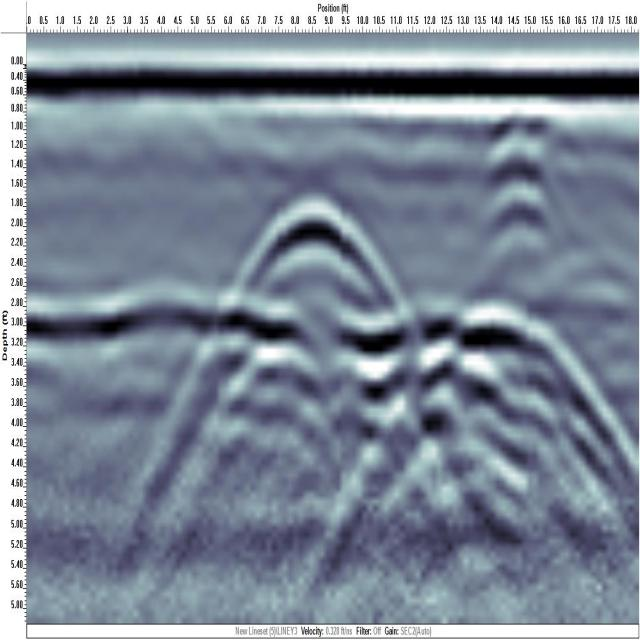hyperbola: (225, 181, 399, 304)
